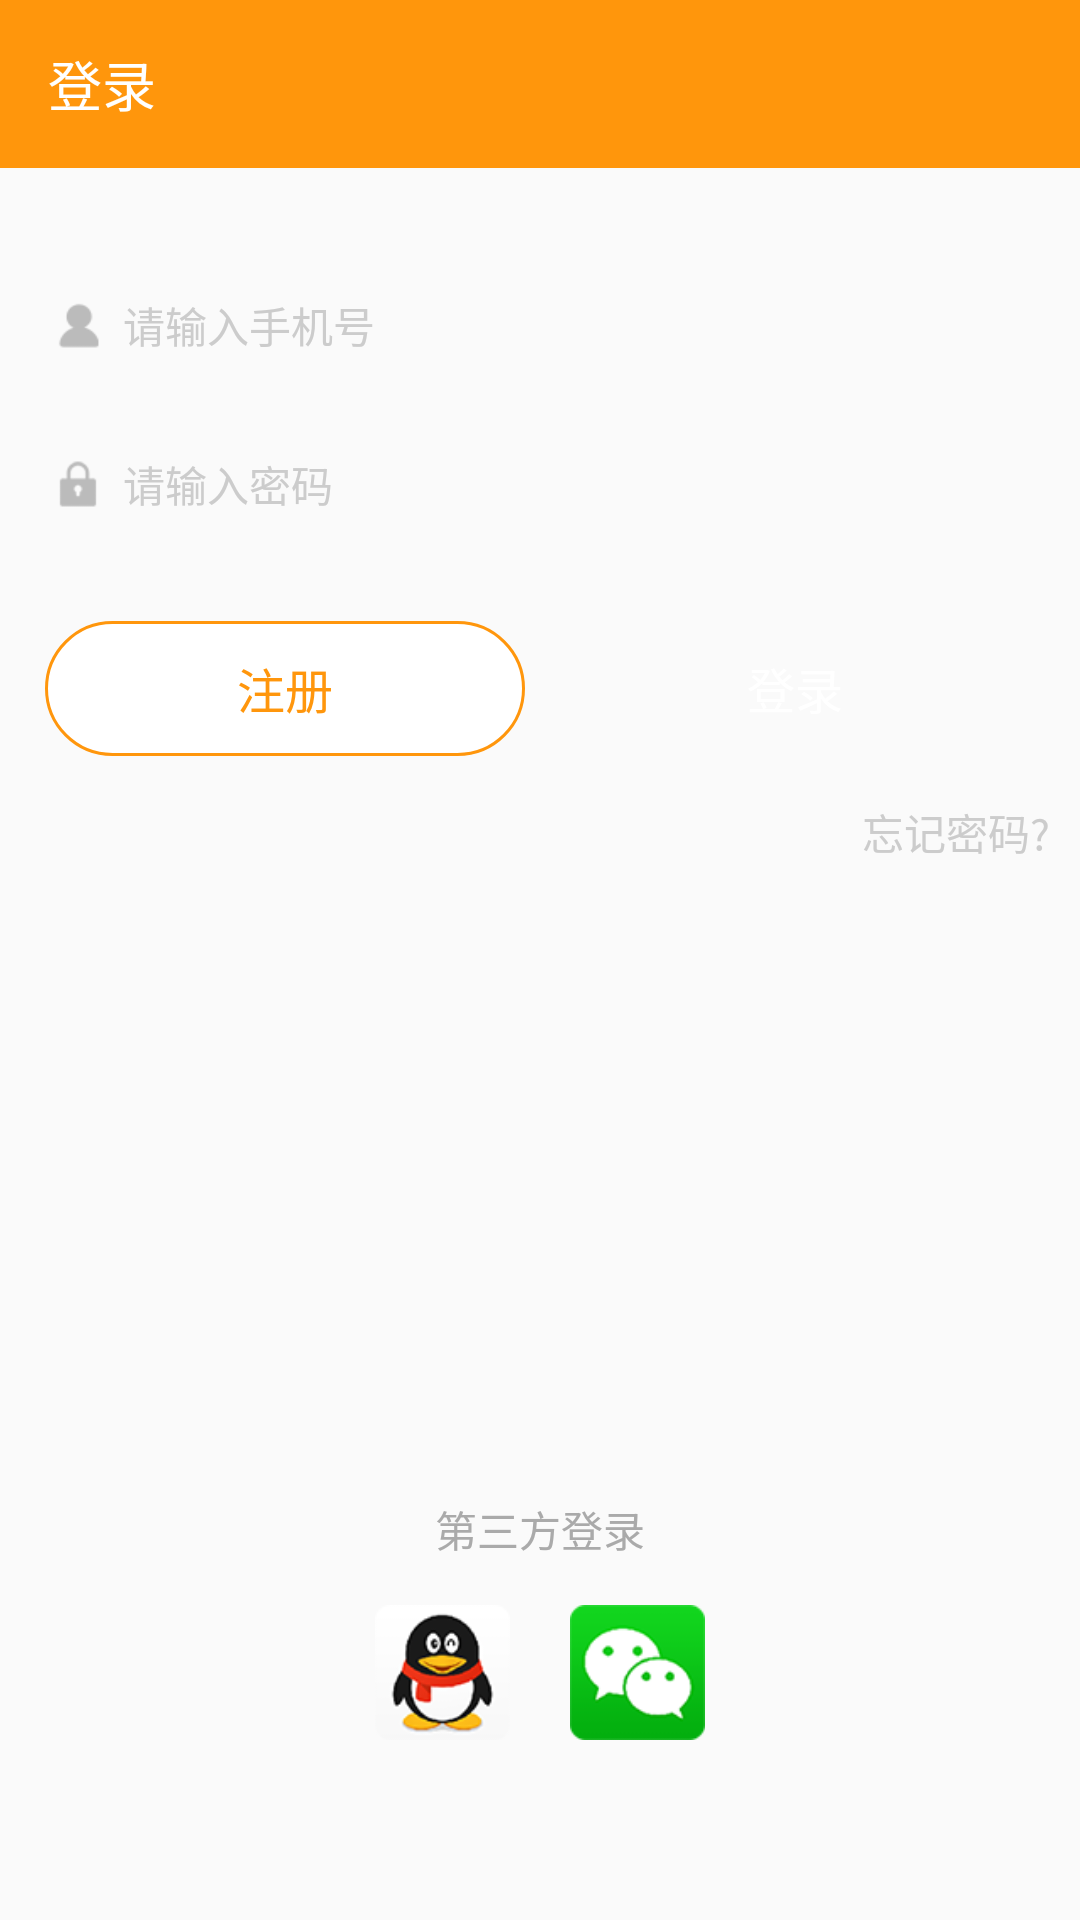

Icons on this 1080*1920 Android screen, each with its box as bbox=[x1, y1, x2, y2]:
lock: bbox=[60, 461, 96, 507]
user profile: bbox=[59, 304, 99, 347]
